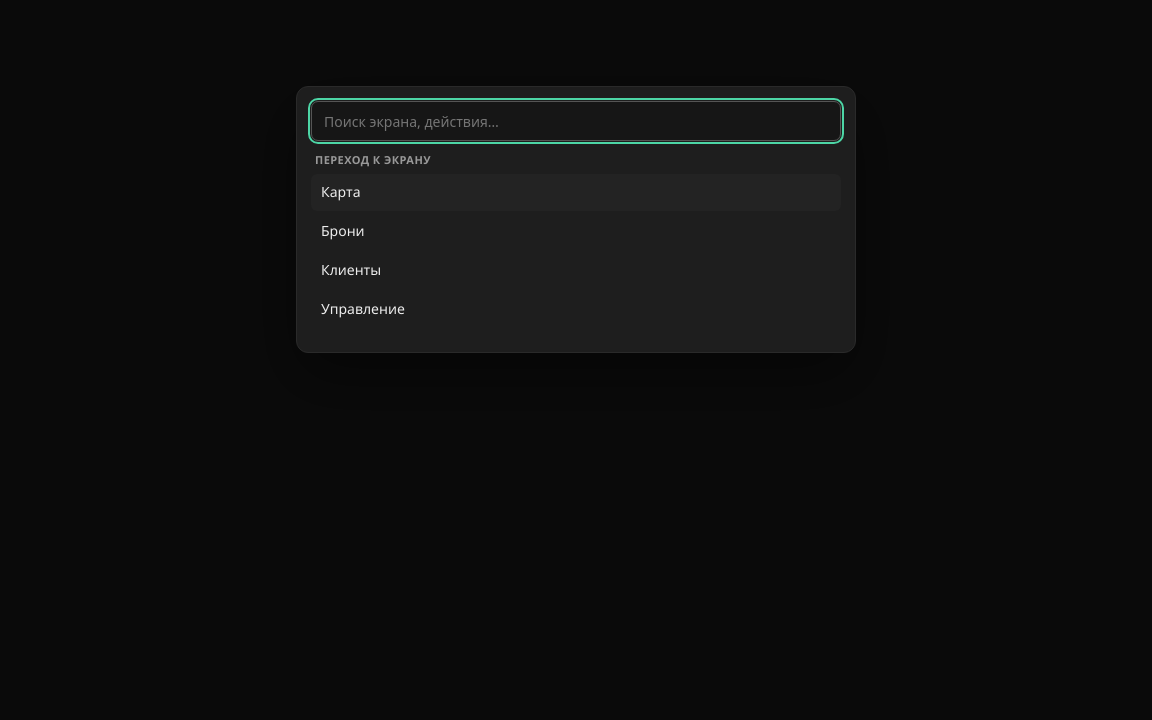
Test: CommandPalette › filters the nav list by the localized label as the user types
Expected: the option "Карта" is shown, [311, 174, 841, 211]
Expected: the option "Управление" is shown, [321, 300, 405, 319]
Type "Карта" into the dropdown named "Командная палитра".
click(576, 121); type("Карта")  # box [311, 101, 841, 141]
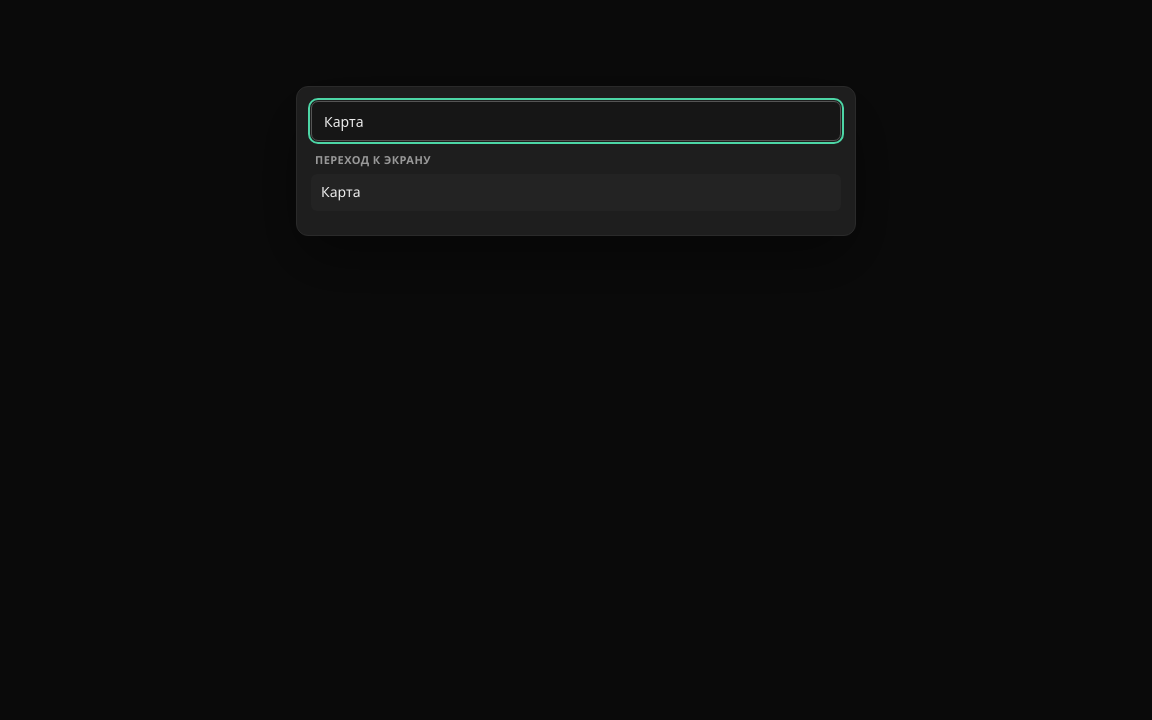
Expected: the option "Карта" is shown, [311, 174, 841, 211]
Result: the option "Управление" is gone
